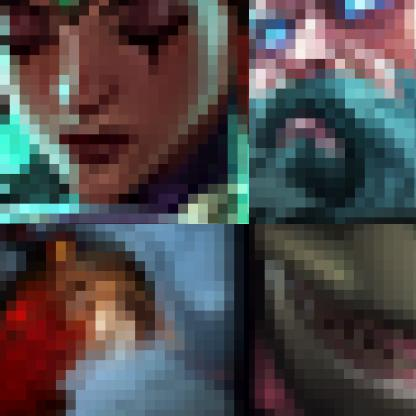Fiddlesticks: (0, 224, 248, 415)
Karma: (0, 0, 248, 223)
Tahm Kench: (249, 224, 415, 415)
Zilean: (249, 0, 415, 223)
